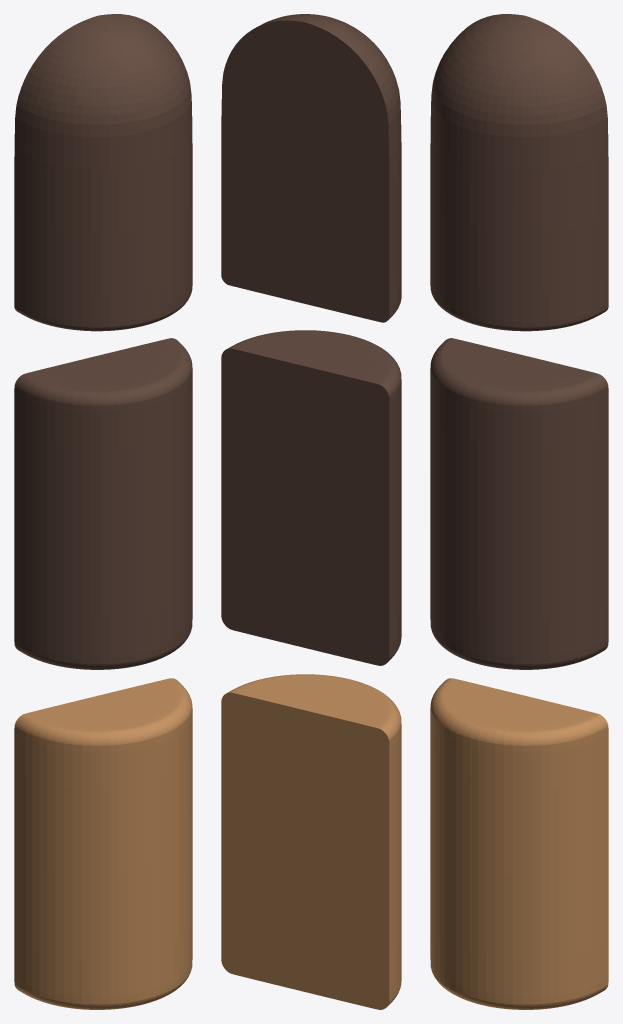
The model's file is pepero.glb.
The picture shows the model from 3 angles, left to right: view 1: azimuth 30°, elevation 25°; view 2: azimuth 150°, elevation 25°; view 3: azimuth 330°, elevation 25°; orthographic projection.
Parts seen in each view (by area): view 1: Circle.524, Circle.522, Circle.523; view 2: Circle.524, Circle.522, Circle.523; view 3: Circle.524, Circle.522, Circle.523.
Part boxes in pixels (<box>): Circle.524: <box>14,678,192,1009</box>; Circle.522: <box>14,338,192,669</box>; Circle.523: <box>14,14,192,331</box>; Circle.524: <box>221,674,401,1009</box>; Circle.522: <box>221,330,401,665</box>; Circle.523: <box>221,14,401,322</box>; Circle.524: <box>430,678,608,1009</box>; Circle.522: <box>430,338,608,669</box>; Circle.523: <box>430,14,608,331</box>.
Size of the model in its own units: 10 by 55.08 by 4.97.
